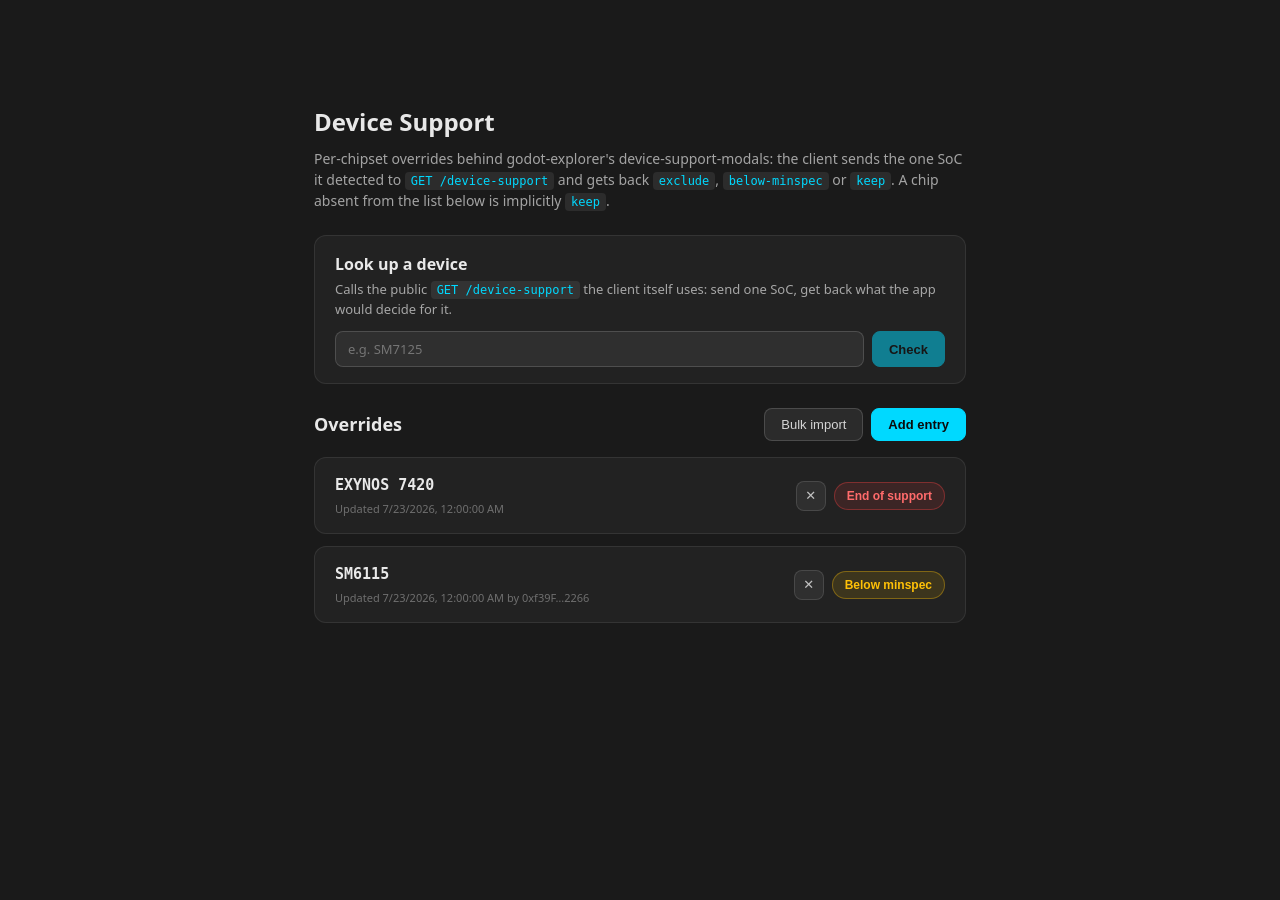
Test case: DeviceSupportPage › saves a decision change on confirm and reloads the list from the server
This screenshot has width=1280, height=900.
Click the button with aria-label "Change decision for EXYNOS 7420" at (889, 496), box [834,482,945,510]
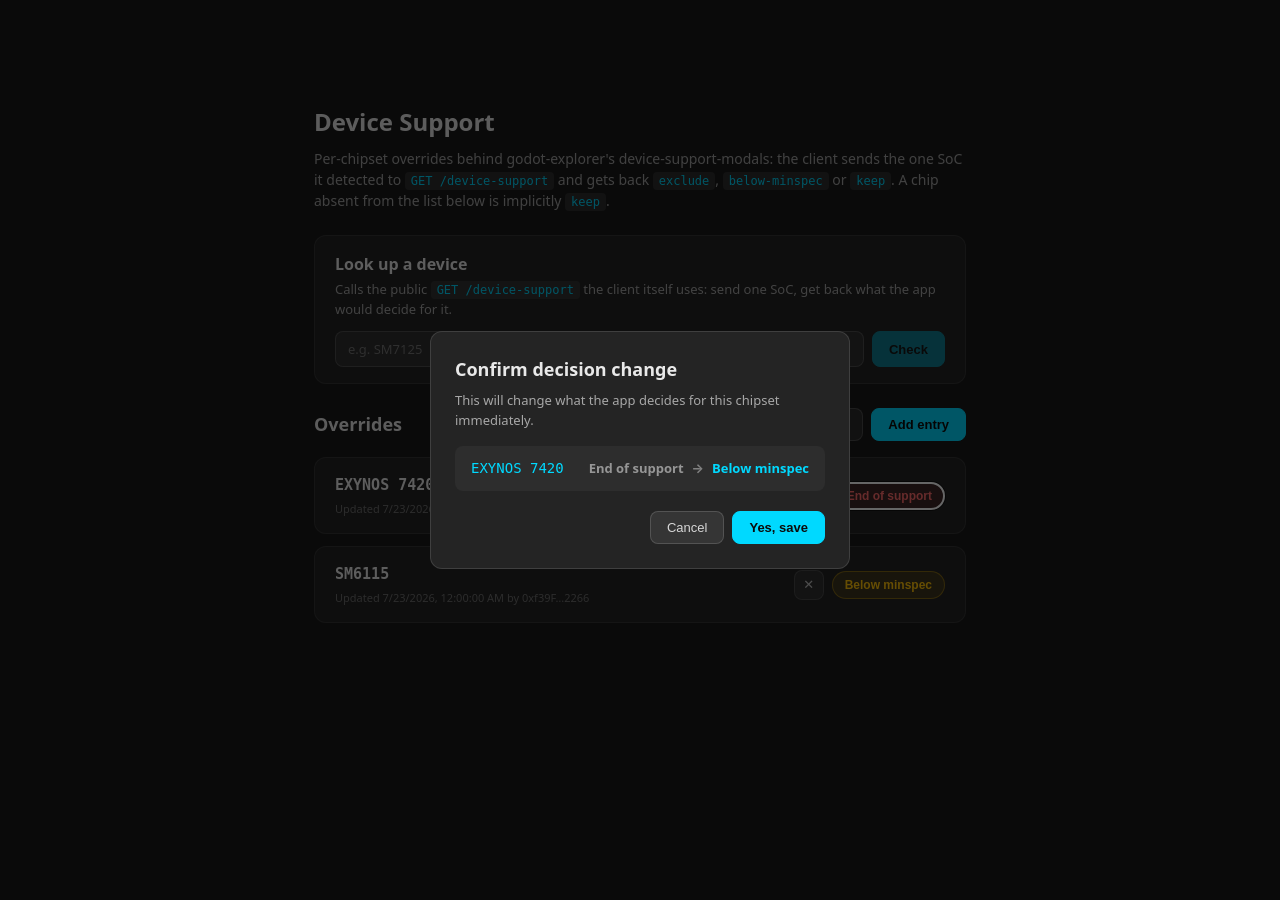
Click the button "Yes, save" at (779, 528), box [732,511,825,544]
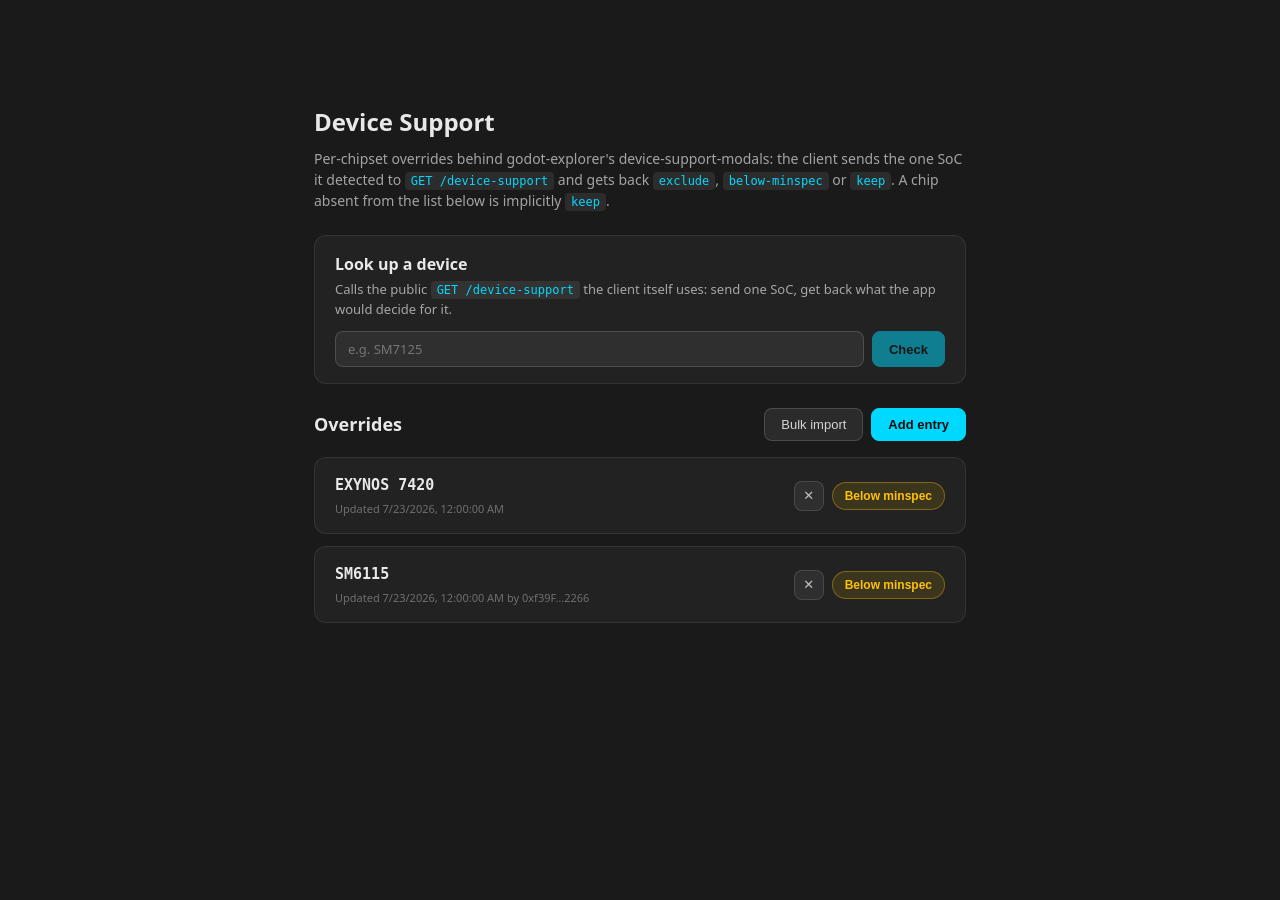
Expected: the dialog is gone
Expected: the button with aria-label "Change decision for EXYNOS 7420" reads "Below minspec", [832,482,945,510]
